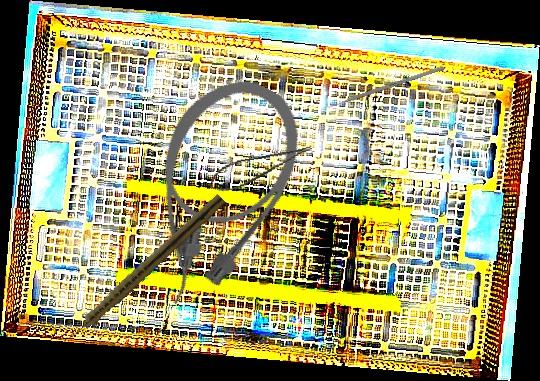Cannula: (101, 58, 324, 325)
Handpiece: (63, 190, 227, 344)
Micro Scissor: (205, 142, 317, 196)
Pusher: (317, 65, 445, 113)
